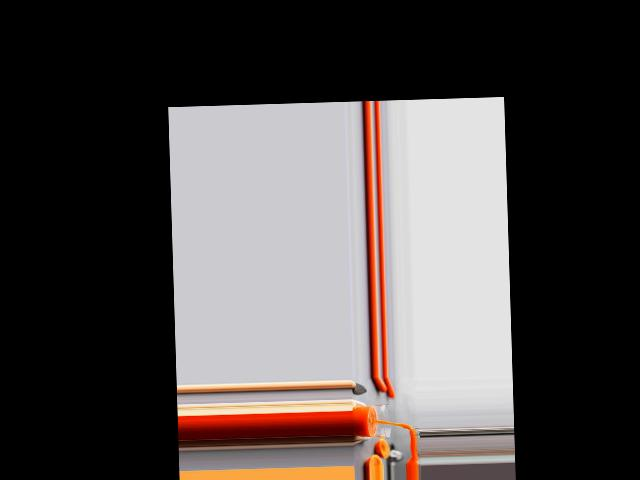carrot: (370, 377, 393, 400)
